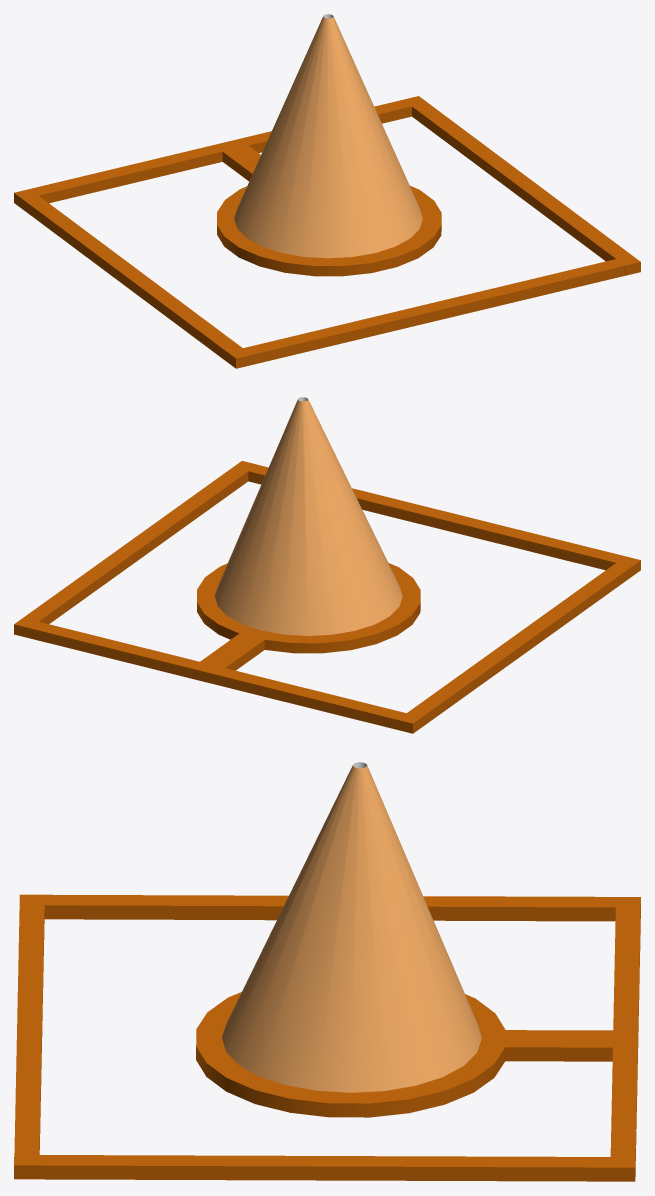
The picture shows the model from 3 angles, top to bottom: view 1: azimuth 30°, elevation 25°; view 2: azimuth 150°, elevation 25°; view 3: azimuth 270°, elevation 25°; orthographic projection. The views are drawn at different scales.
Parts seen in each view (by area): view 1: Model; view 2: Model; view 3: Model.
Part boxes in pixels (bbox=[...]): Model: bbox=[14, 14, 640, 368]; Model: bbox=[14, 397, 640, 733]; Model: bbox=[14, 762, 640, 1181].
Bounding box in the file's own units: 661 × 326 × 642.
